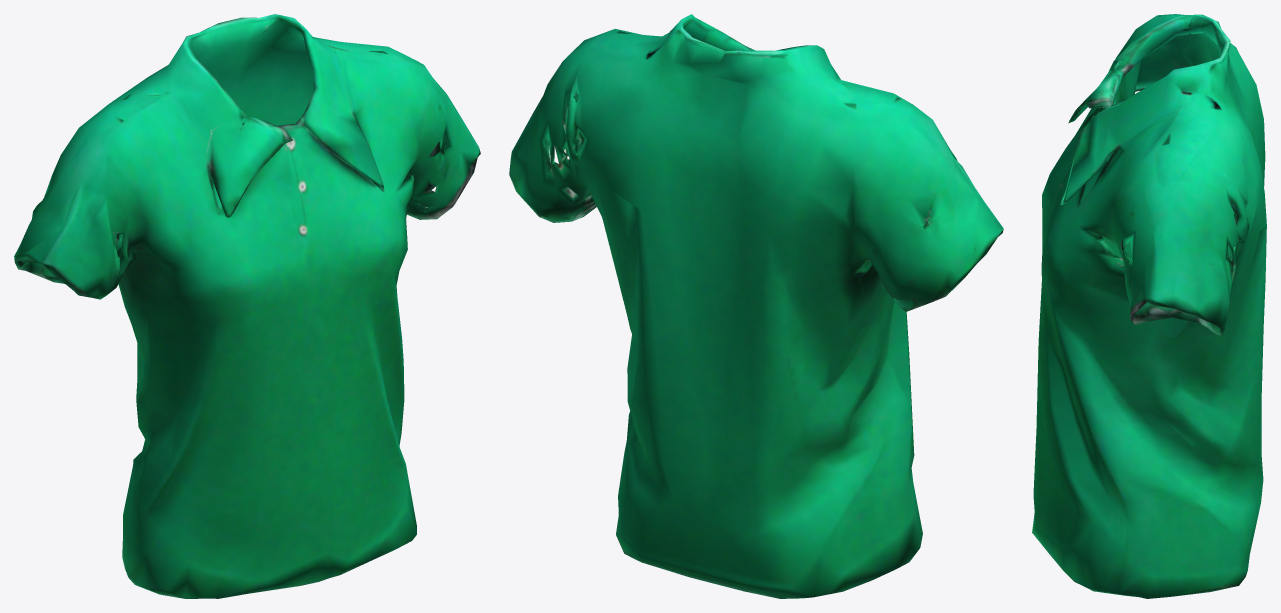
File: Poloverde.glb
The picture shows the model from 3 angles, left to right: view 1: azimuth 30°, elevation 25°; view 2: azimuth 150°, elevation 25°; view 3: azimuth 270°, elevation 25°; orthographic projection. The views are drawn at different scales.
Size of the model in its own units: 1.83 by 2 by 0.837.
Materials: 1 (1 with a texture image).
